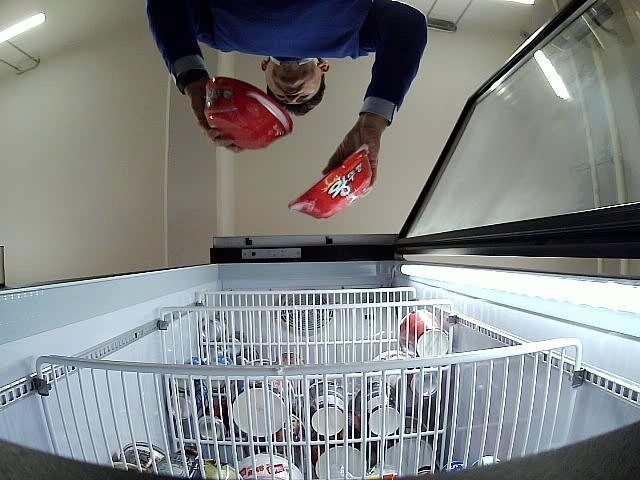10_wangTtukkeong: (204, 78, 294, 148), (288, 145, 372, 220)
